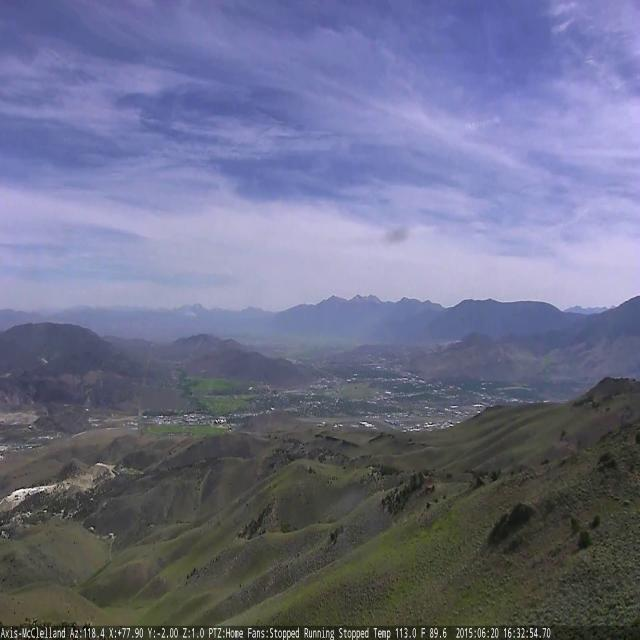smoke: (183, 306, 197, 315)
